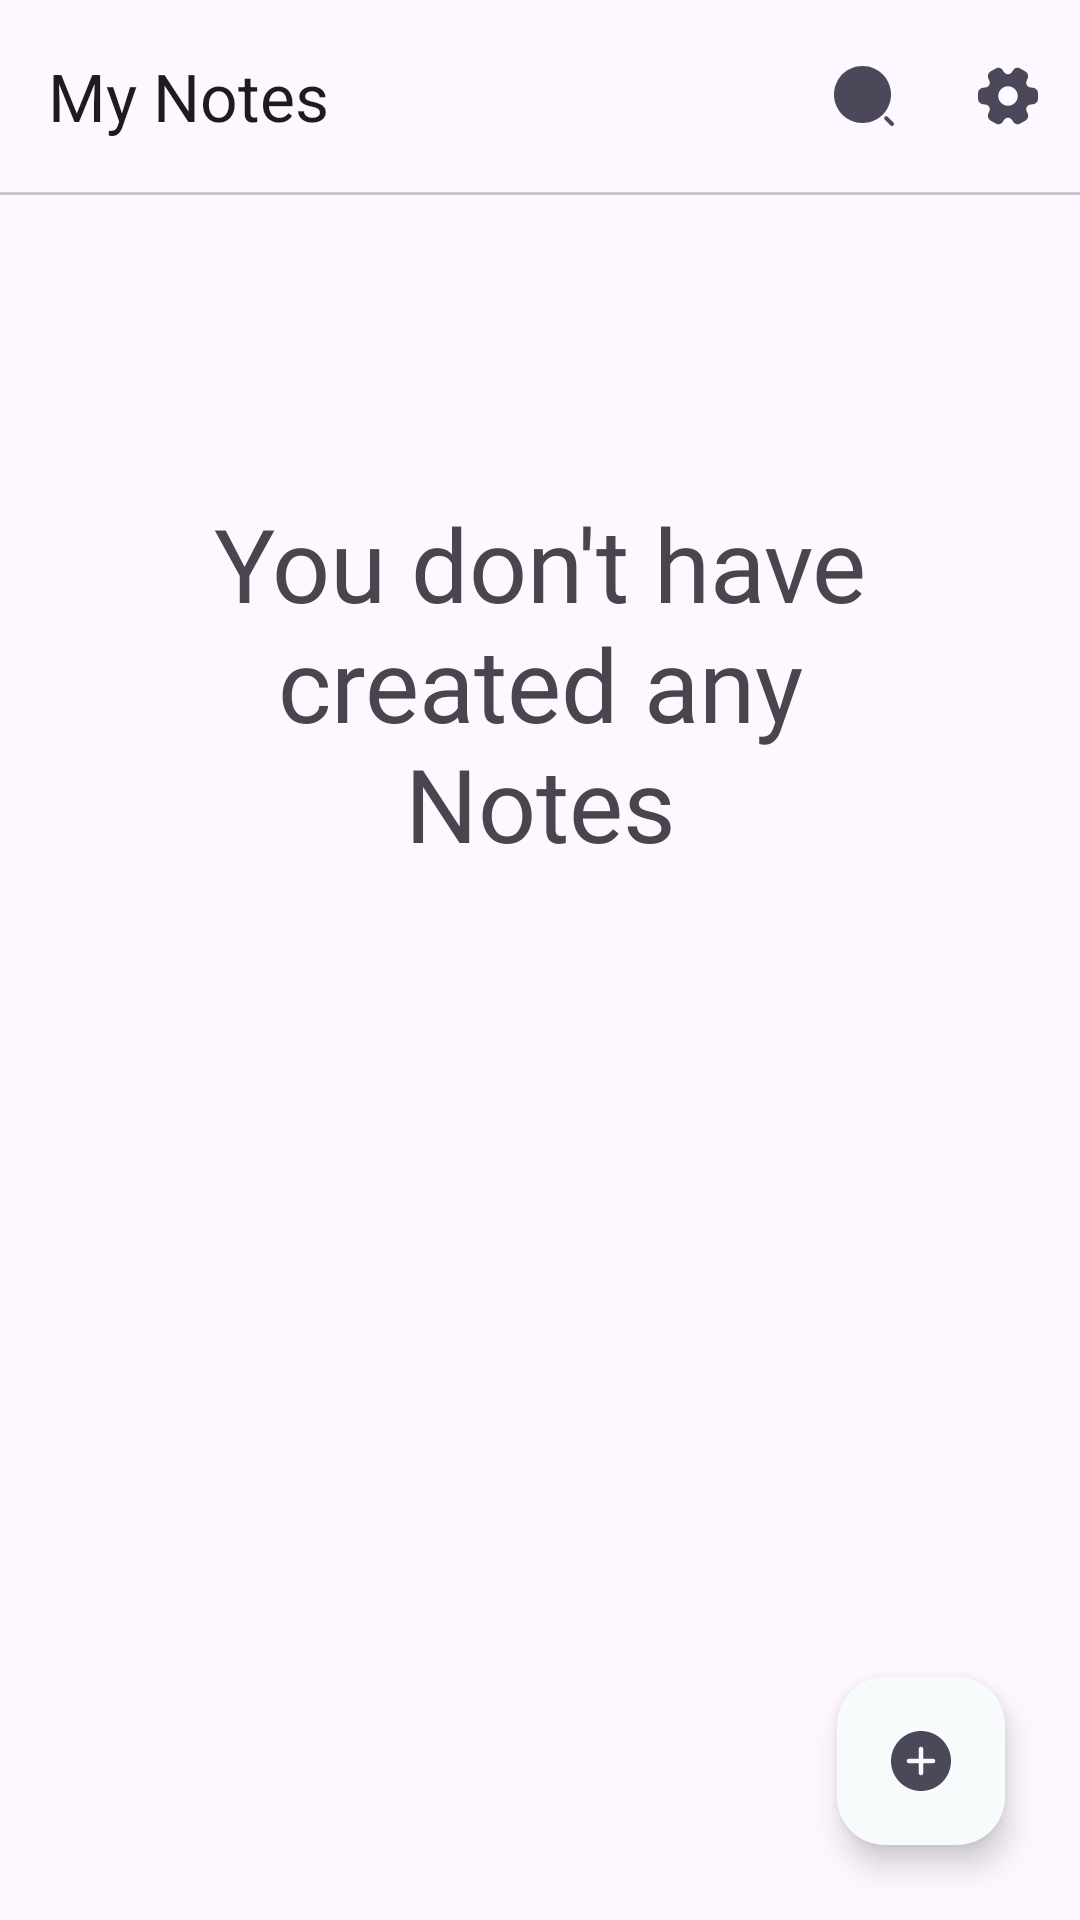

Screen size 1080 × 1920. Icon name, then its center in pixels as (x,y):
add: (921,1761)
